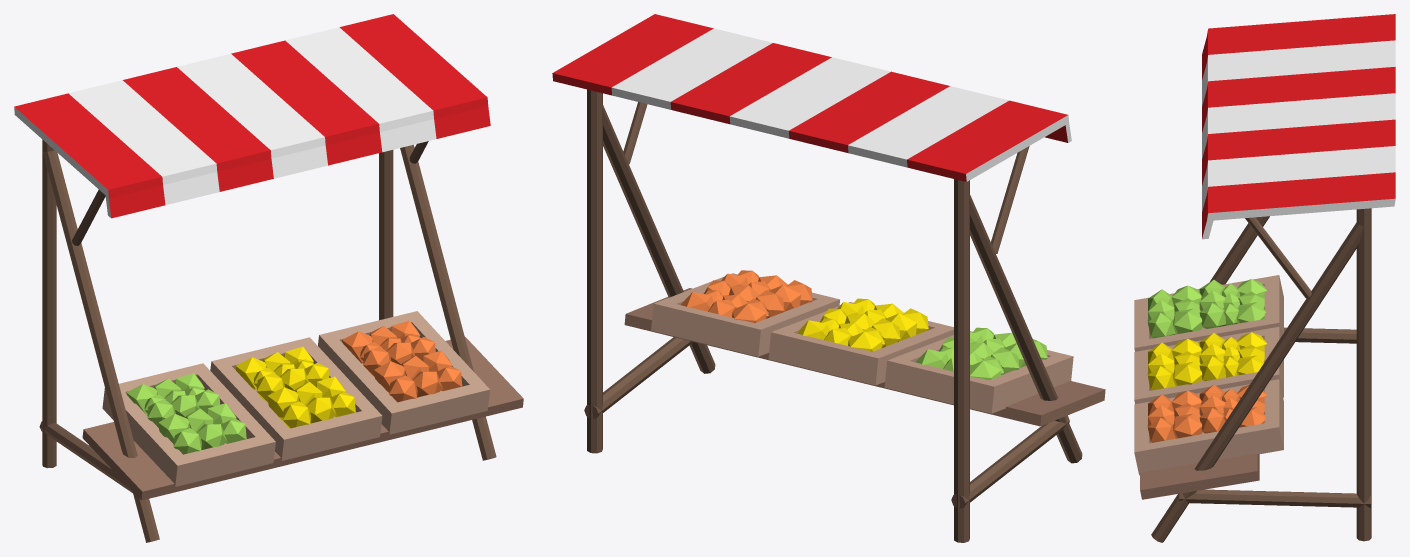
File: bazaar-item-04.obj
3 views of the same model, side by side, from view 1: azimuth 30°, elevation 25°; view 2: azimuth 150°, elevation 25°; view 3: azimuth 270°, elevation 25° (orthographic). The views are drawn at different scales.
Visible parts, largest first — view 1: bazaar-item-04; view 2: bazaar-item-04; view 3: bazaar-item-04.
Boxes of the visible parts, left/top/right/bottom form: bazaar-item-04: left=14, top=14, right=523, bottom=542; bazaar-item-04: left=552, top=14, right=1105, bottom=542; bazaar-item-04: left=1134, top=14, right=1395, bottom=542.
Bounding box in the file's own units: 1.93 × 1.72 × 1.15.
